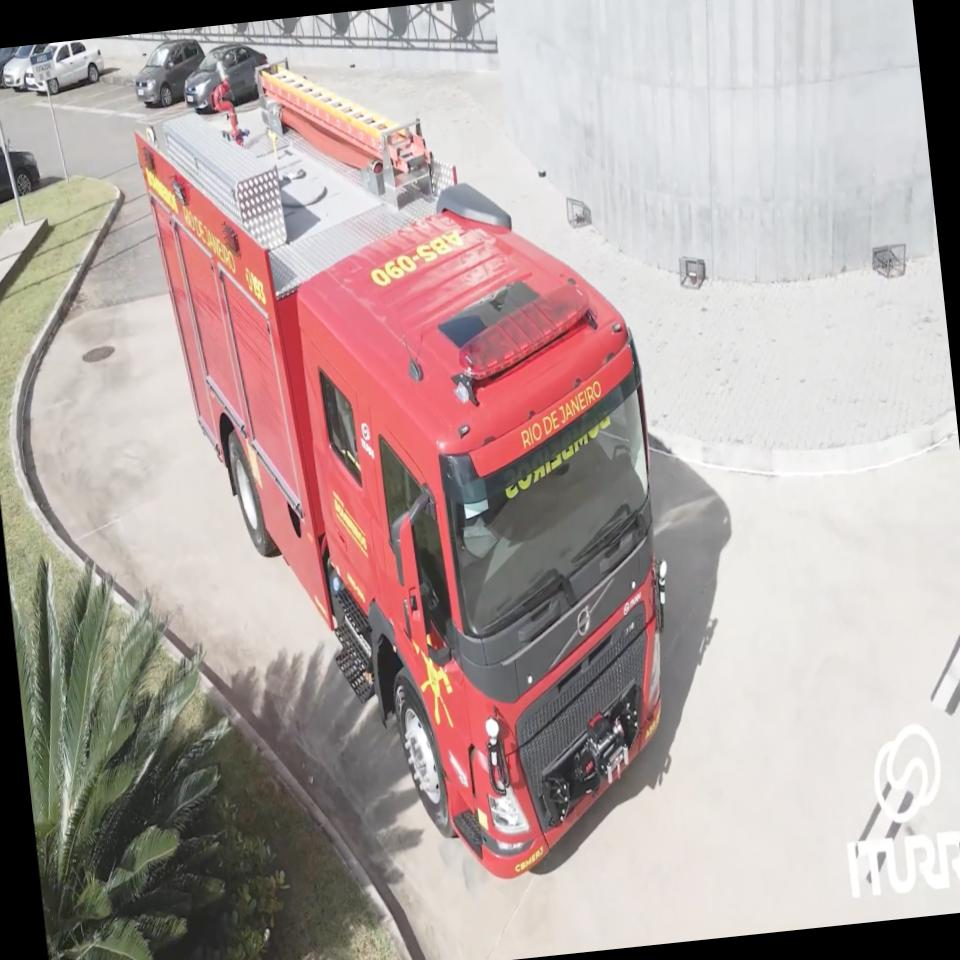viatura: (126, 22, 699, 910)
